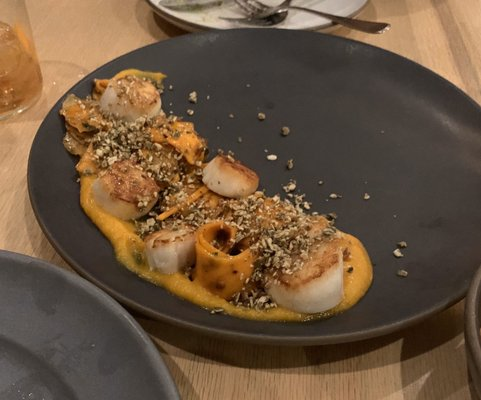sushi: (0, 250, 182, 395)
